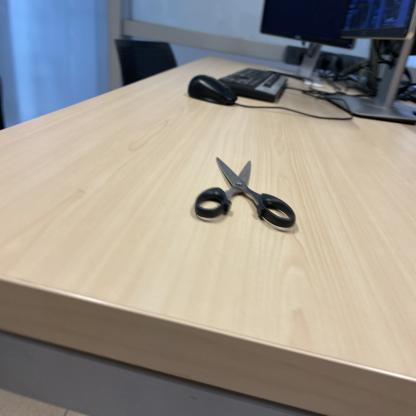scissors: (194, 156, 298, 234)
